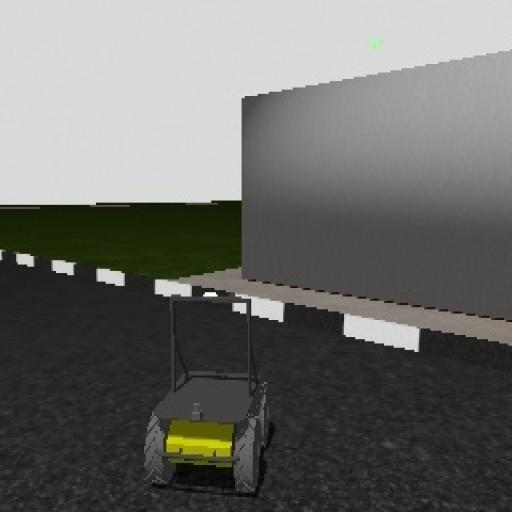huskya200: (142, 290, 276, 506)
